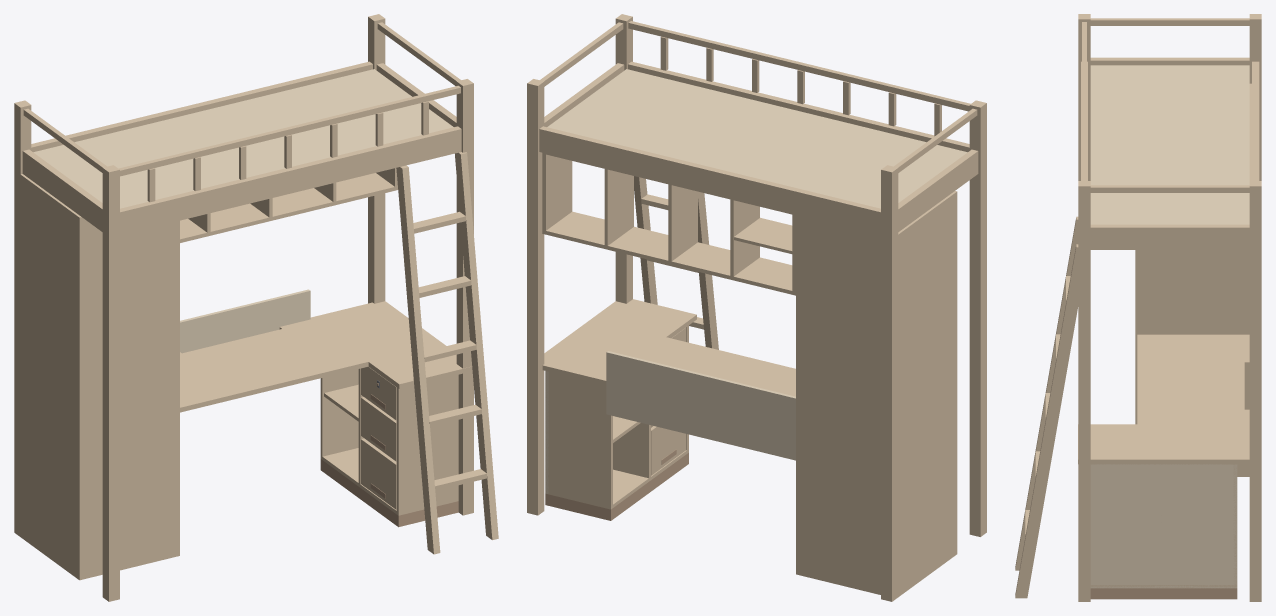
The model's file is dorm_desk_assembled.glb.
The picture shows the model from 3 angles, left to right: view 1: azimuth 30°, elevation 25°; view 2: azimuth 150°, elevation 25°; view 3: azimuth 270°, elevation 25°; orthographic projection. The views are drawn at different scales.
Visible parts, largest first — view 1: Wardrobe_Solid_Box, Bed_Base_Board, Desk_Top_Main, Bed_Beam_Front, Pillar_FR, Desk_Top_L_Return, Cabinet_Front_End_Panel, Ladder_Rail_R, Ladder_Rail_L, Pillar_FL, Desk_Back_Baffle, Bookshelf_Bottom_Board (+15 smaller); view 2: Wardrobe_Solid_Box, Bed_Base_Board, Desk_Back_Baffle, Bed_Beam_Back, Cabinet_Rear_End_Panel, Pillar_BL, Pillar_FR, Pillar_BR, Desk_Top_L_Return, Bookshelf_Bottom_Board, Desk_Top_Main, Bed_Beam_Front (+17 smaller); view 3: Bed_Base_Board, Cabinet_Back_Wall_Outer, Desk_Top_Main, Wardrobe_Solid_Box, Desk_Top_L_Return, Pillar_FL, Pillar_BL, Ladder_Rail_L, Bed_Beam_Left, Bookshelf_Wall_Right, Cabinet_Base_Kickboard, Ladder_Rail_R (+8 smaller).
Part boxes in pixels (<box>): Wardrobe_Solid_Box: <box>18,173,179,580</box>; Bed_Base_Board: <box>33,69,453,208</box>; Desk_Top_Main: <box>180,319,368,412</box>; Bed_Beam_Front: <box>120,126,461,234</box>; Pillar_FR: <box>102,165,119,601</box>; Desk_Top_L_Return: <box>310,301,472,388</box>; Cabinet_Front_End_Panel: <box>396,374,458,515</box>; Ladder_Rail_R: <box>396,165,440,554</box>; Ladder_Rail_L: <box>455,152,498,540</box>; Pillar_FL: <box>456,79,473,515</box>; Desk_Back_Baffle: <box>180,289,310,353</box>; Bookshelf_Bottom_Board: <box>180,173,398,242</box>; Wardrobe_Solid_Box: <box>796,191,957,598</box>; Bed_Base_Board: <box>547,69,967,208</box>; Desk_Back_Baffle: <box>606,351,795,460</box>; Bed_Beam_Back: <box>539,126,880,234</box>; Cabinet_Rear_End_Panel: <box>545,371,612,508</box>; Pillar_BL: <box>527,79,544,515</box>; Pillar_FR: <box>969,100,986,536</box>; Pillar_BR: <box>881,165,898,601</box>; Desk_Top_L_Return: <box>542,299,696,385</box>; Bookshelf_Bottom_Board: <box>542,211,795,295</box>; Desk_Top_Main: <box>638,337,795,396</box>; Bed_Beam_Front: <box>628,61,969,152</box>; Bed_Base_Board: <box>1090,65,1249,224</box>; Cabinet_Back_Wall_Outer: <box>1090,464,1237,588</box>; Desk_Top_Main: <box>1137,334,1249,424</box>; Wardrobe_Solid_Box: <box>1135,83,1251,476</box>; Desk_Top_L_Return: <box>1078,424,1253,464</box>; Pillar_FL: <box>1078,181,1090,601</box>; Pillar_BL: <box>1249,181,1261,601</box>; Ladder_Rail_L: <box>1015,244,1078,598</box>; Bed_Beam_Left: <box>1090,224,1249,249</box>; Bookshelf_Wall_Right: <box>1202,250,1249,326</box>; Cabinet_Base_Kickboard: <box>1090,588,1237,599</box>; Ladder_Rail_R: <box>1015,216,1078,570</box>.
Bounding box in the file's own units: 2 × 2.25 × 1.21.
